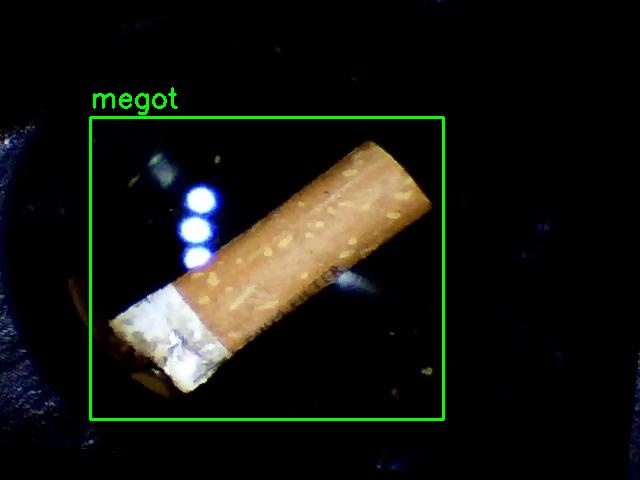megot: (90, 117, 443, 419)
